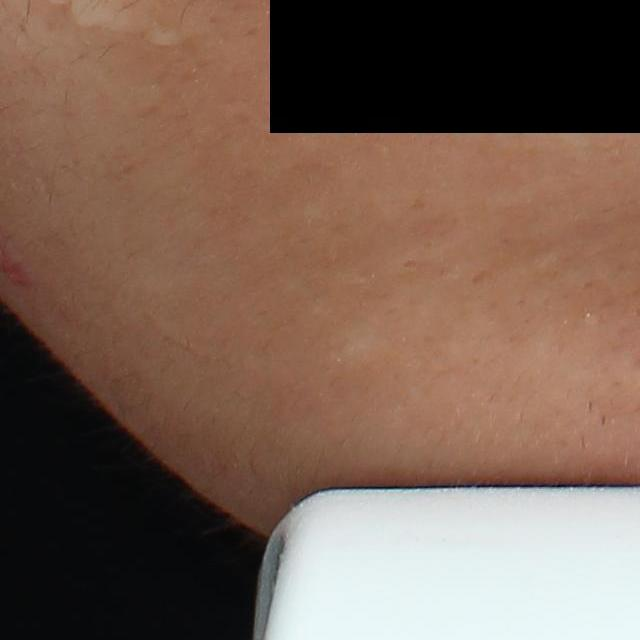hypertrophic_scar: (329, 329, 400, 383)
